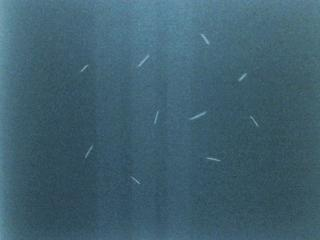scratch: (132, 50, 153, 72), (241, 114, 259, 132), (82, 143, 96, 164), (127, 172, 142, 186), (151, 107, 162, 126), (198, 31, 210, 47), (188, 110, 207, 120), (234, 71, 247, 84), (202, 155, 222, 163), (79, 64, 90, 74)
